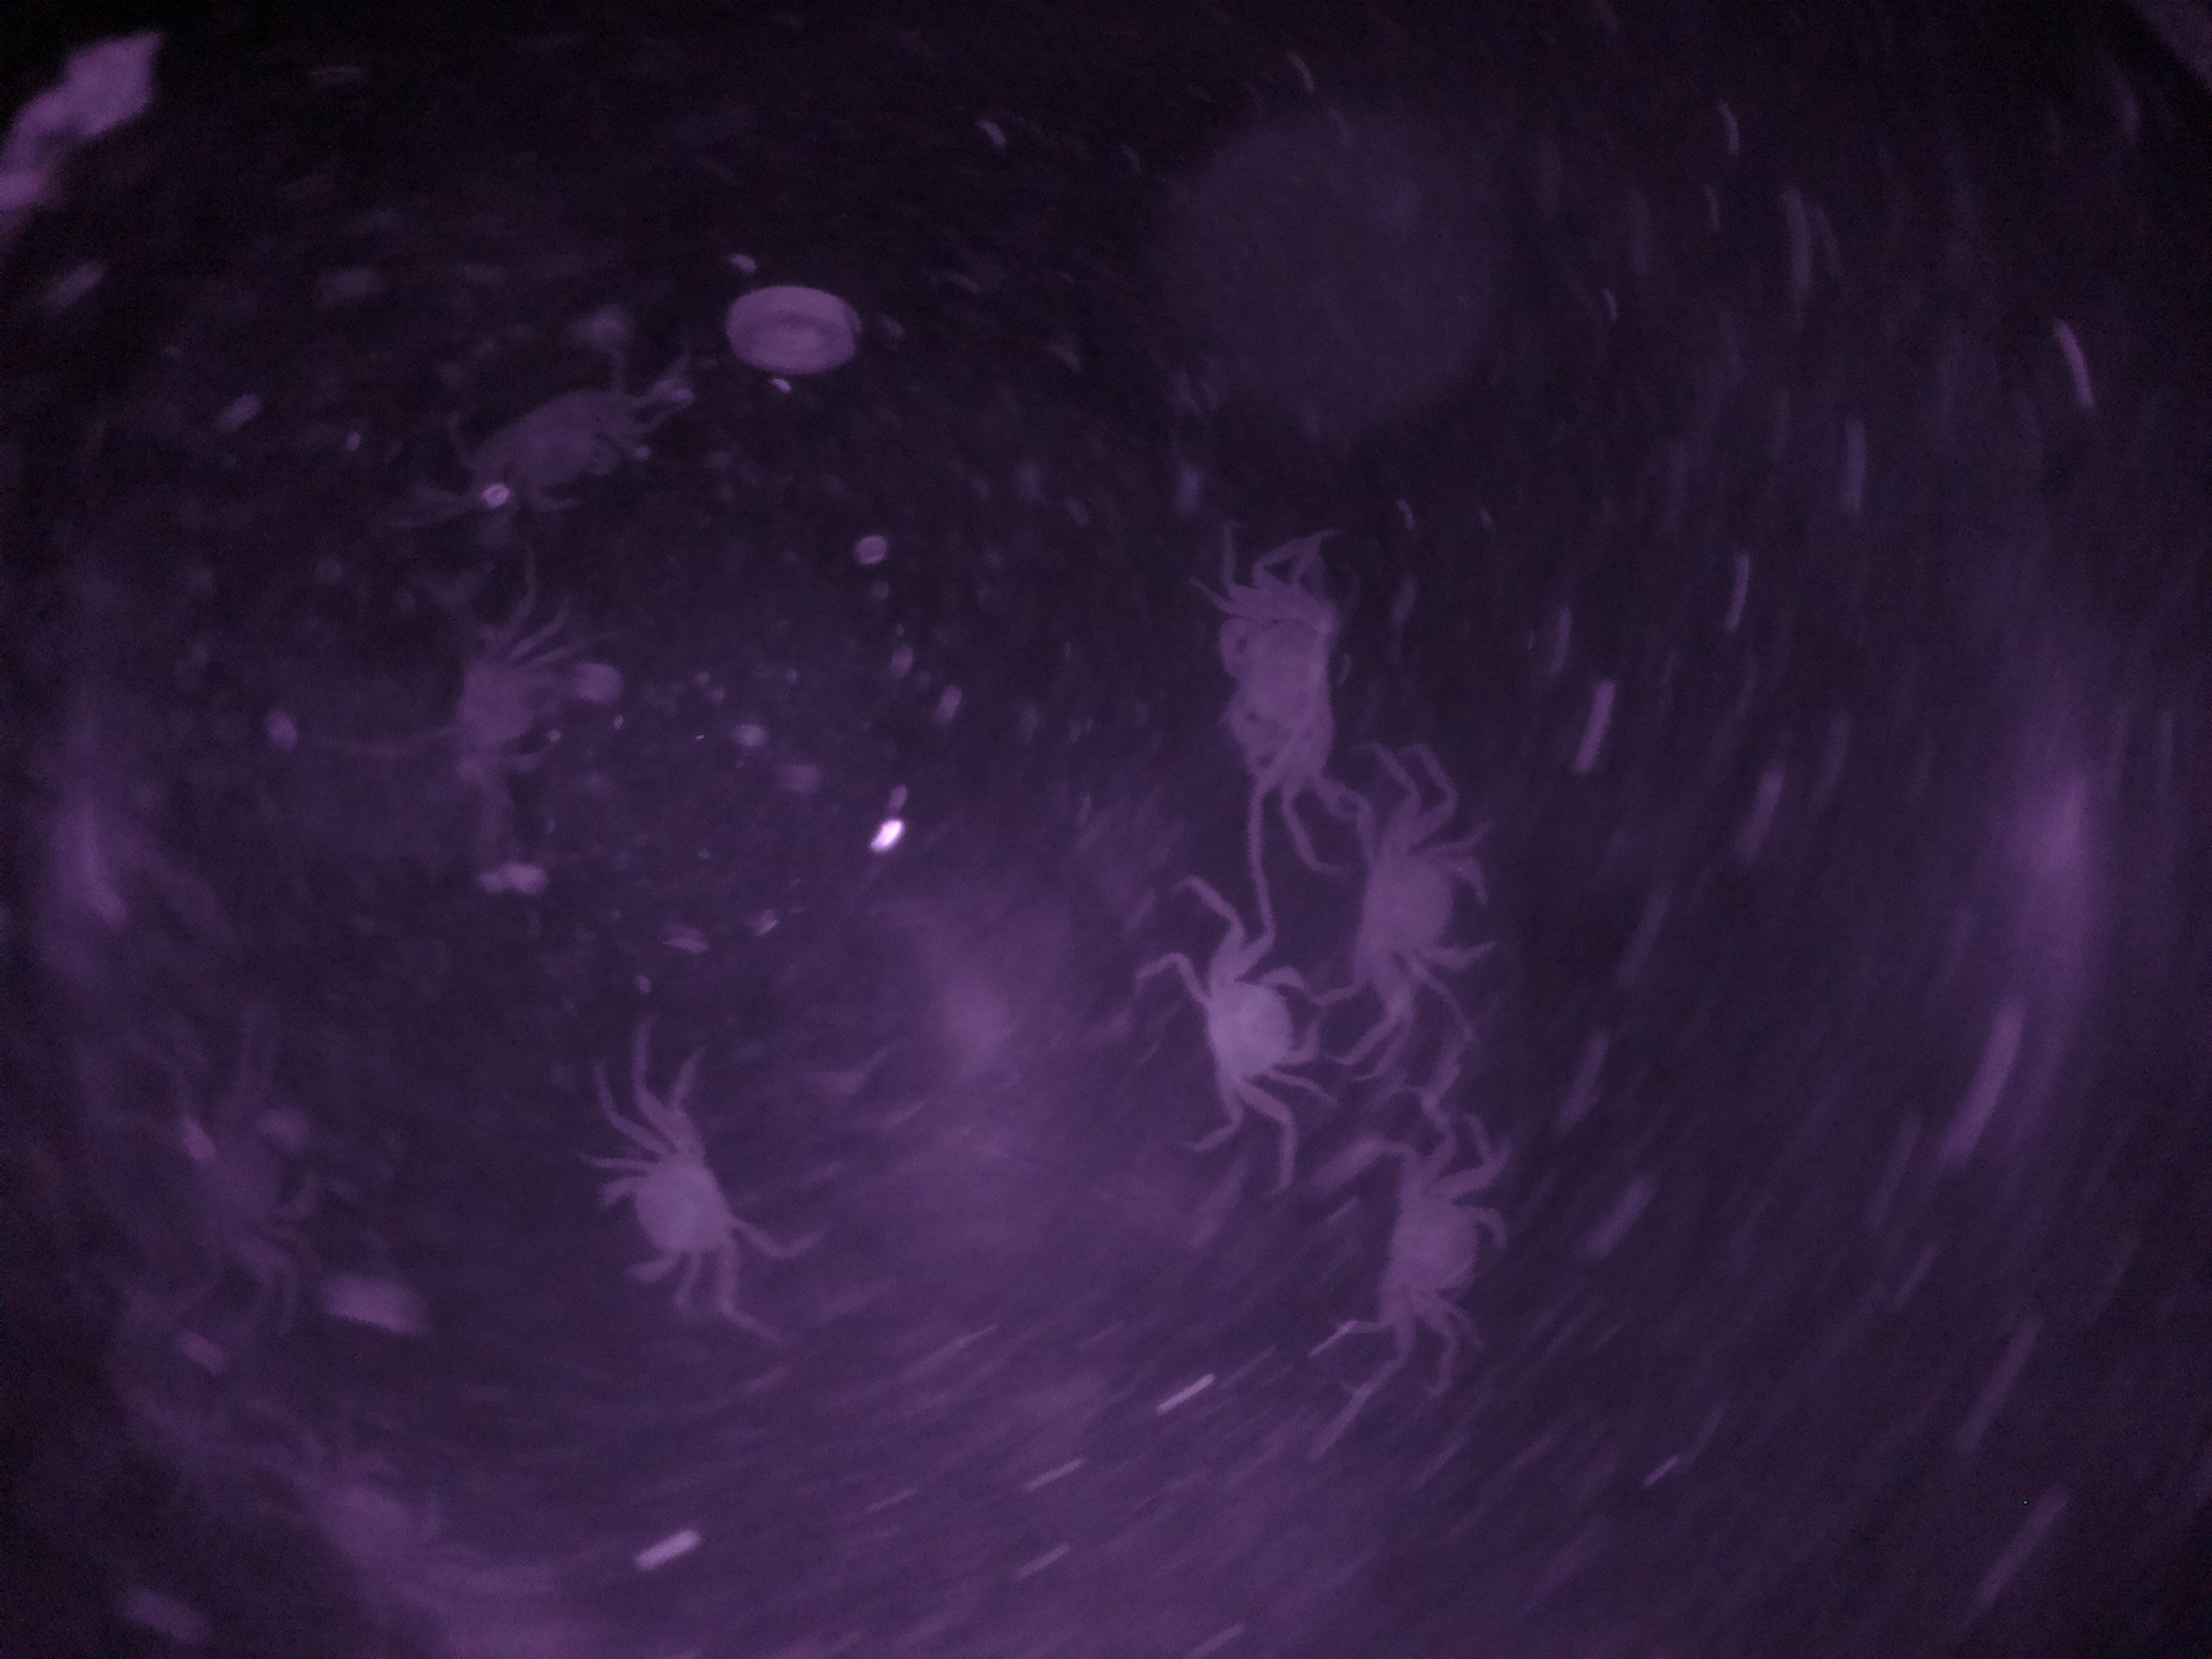Crab: (583, 1101, 779, 1309), (1345, 1134, 1522, 1354), (1336, 809, 1514, 1026), (1158, 927, 1322, 1157), (1190, 566, 1345, 798)
